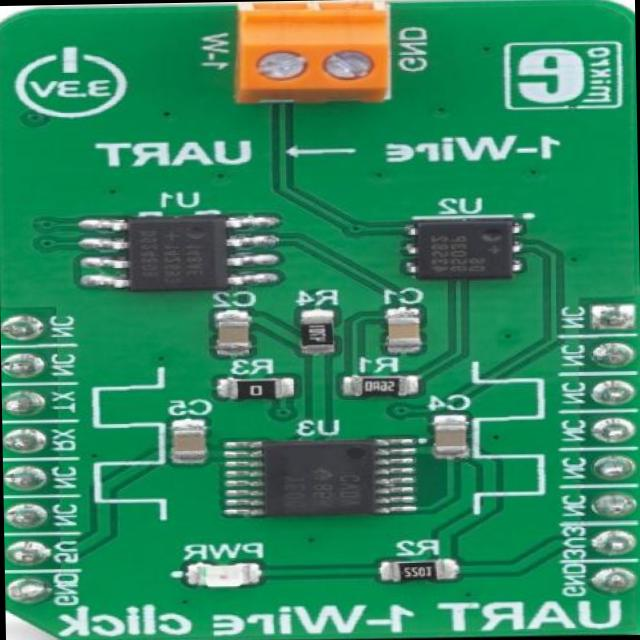IC: (92, 210, 258, 294), (234, 435, 411, 513), (406, 216, 519, 276)
LED: (188, 564, 254, 588)
capacitor: (170, 424, 207, 468), (210, 312, 250, 350), (384, 313, 421, 352), (434, 419, 467, 457)
connector: (228, 0, 387, 100)
resistor: (384, 561, 451, 581), (348, 375, 410, 395), (227, 378, 286, 397), (304, 314, 334, 351)
